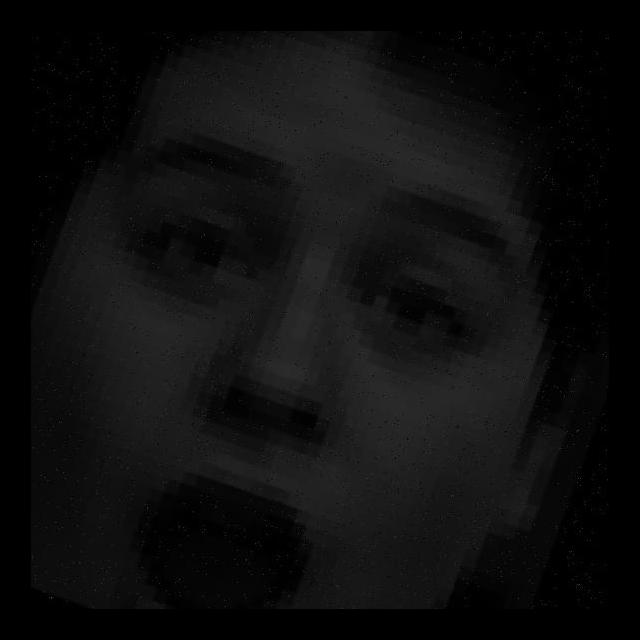Surprised: (65, 104, 587, 608)
